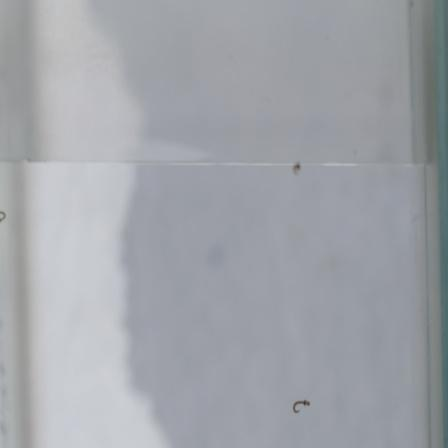Jentik-Nyamuk: (290, 393, 315, 419)
